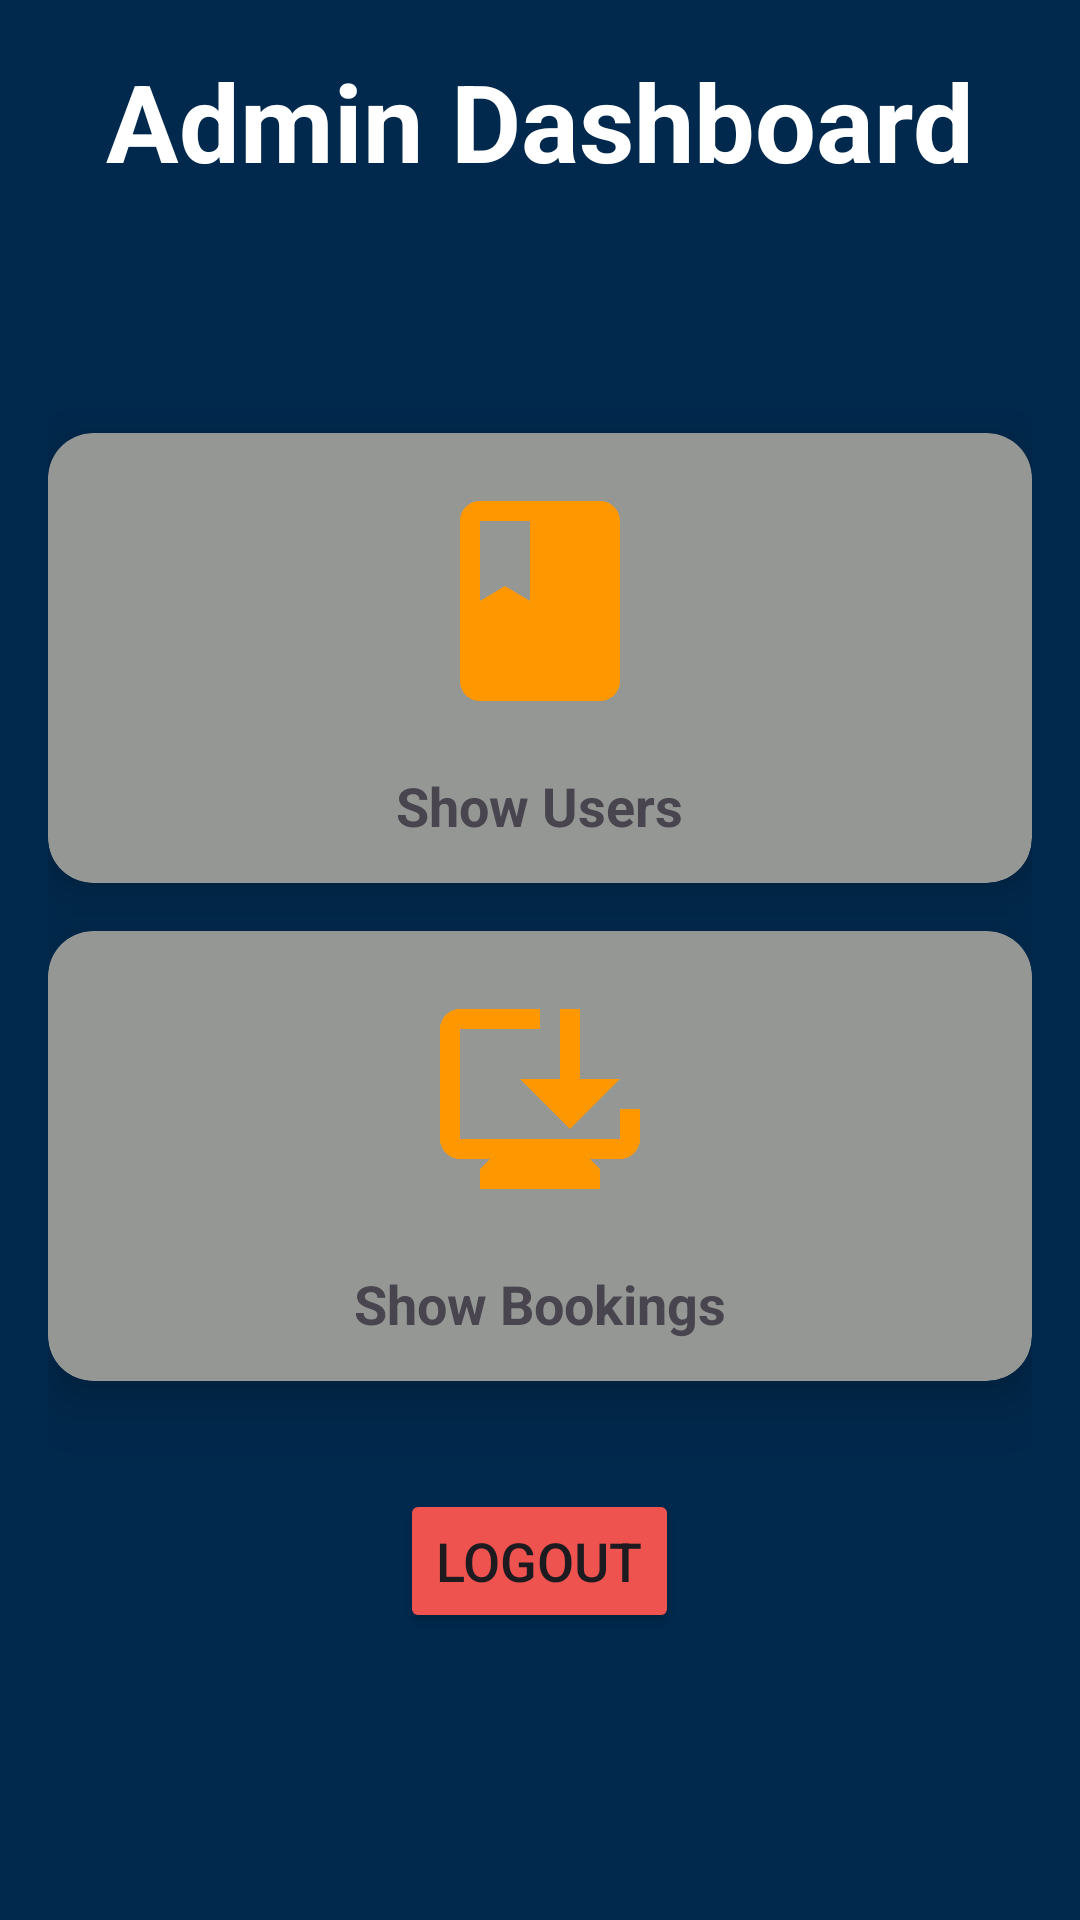

Screen size 1080*1920. Icon name, then its center in pixels as (x,y):
book: (540,601)
browser updated: (540,1099)
